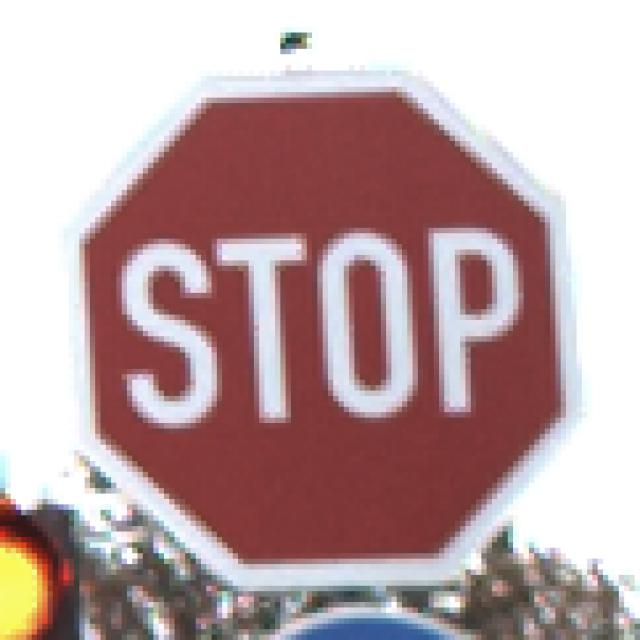STOP: (54, 61, 588, 587)
